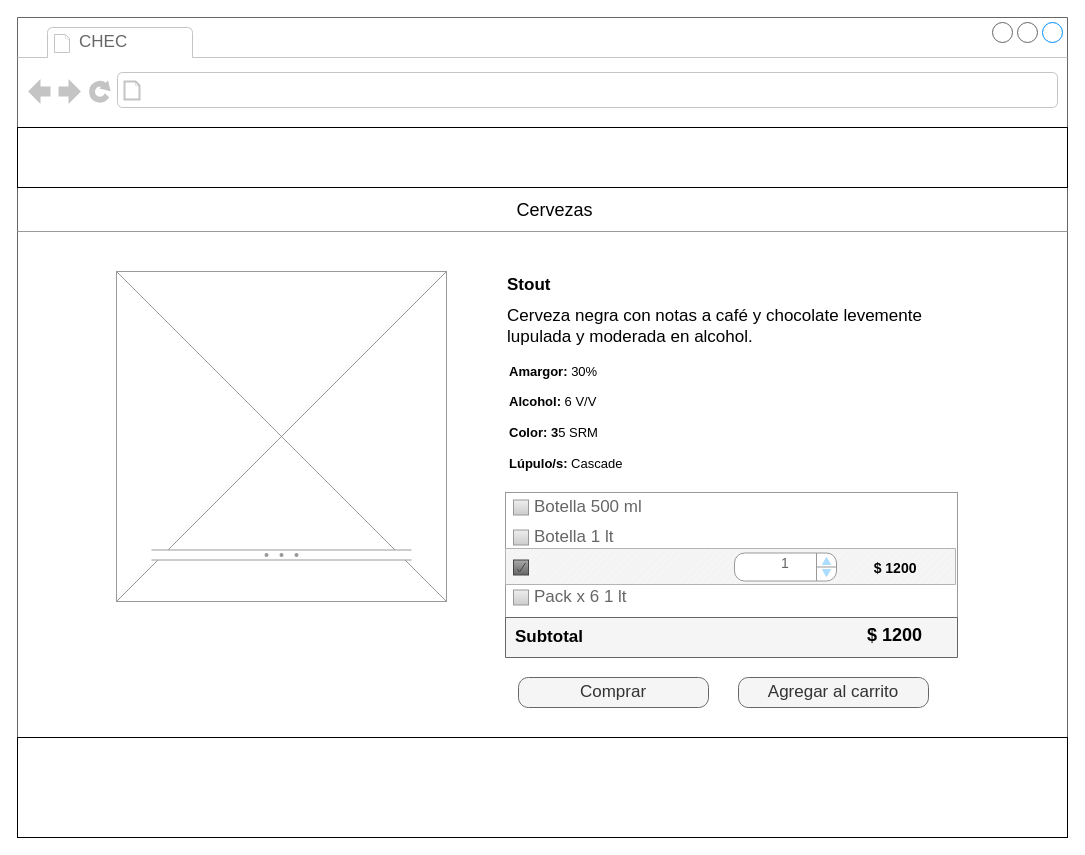
Image size: 1085x855. Some labels were removed from this diagram. The centre of each missing label's shape, as x and y in pixels:
Footer: point (542, 787)
Header: point (542, 157)
https://www.default.com: point (272, 90)
Pack x 6 500 ml: point (520, 567)
